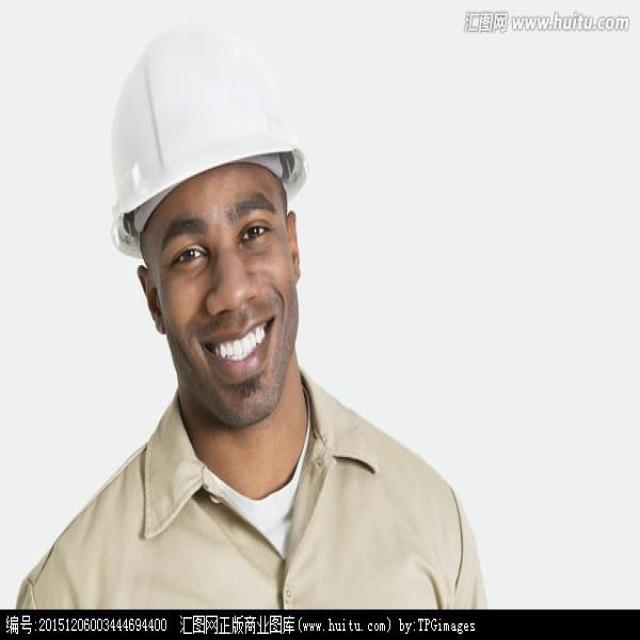NO_Safety_vest: (0, 376, 486, 613)
helmet_OK: (102, 20, 322, 261)
